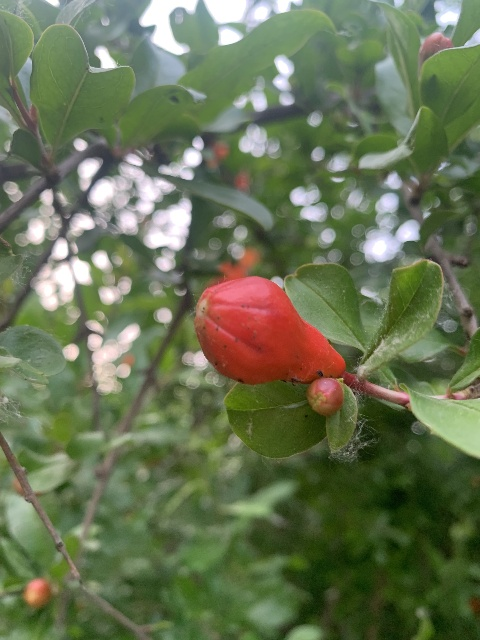bud: (192, 275, 346, 386), (306, 376, 344, 416), (23, 580, 52, 610), (419, 32, 452, 58)
